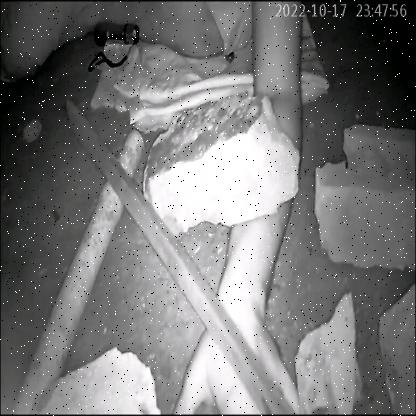hand: (160, 243, 316, 416)
